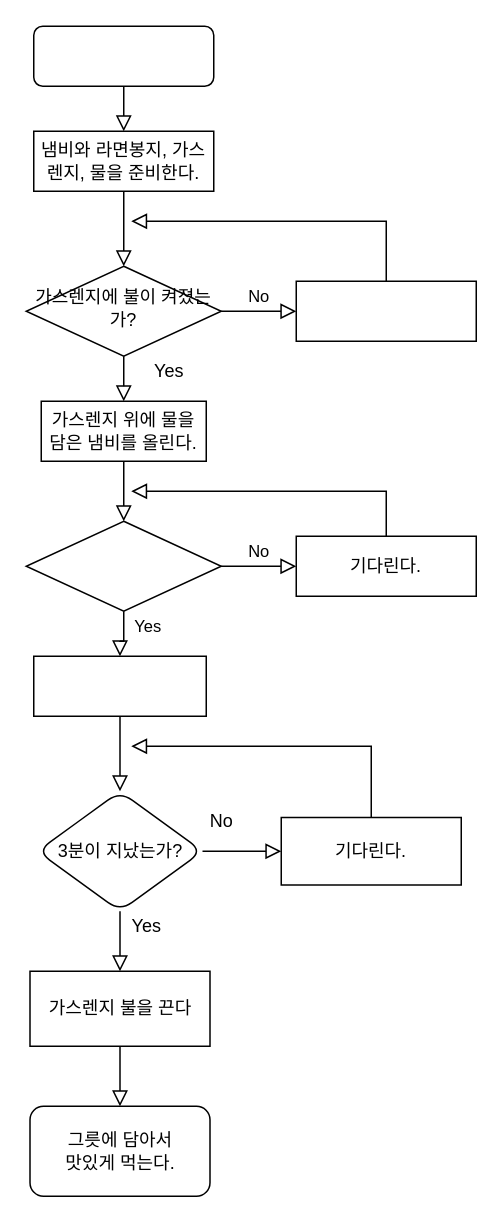
Some shapes in this 503 by 1223 pixel diagram are drawn without their labels. The centre of each missing label's shape, as x and y in pixels:
"다른 가스렌지에 불을 켜본다." goes at (x=385, y=310).
"라면 끓이기 시작" goes at (x=123, y=55).
"물이 끓는가?" goes at (x=123, y=565).
"스프를 먼저 넣고 그다음 면을 넣는다." goes at (x=119, y=685).
